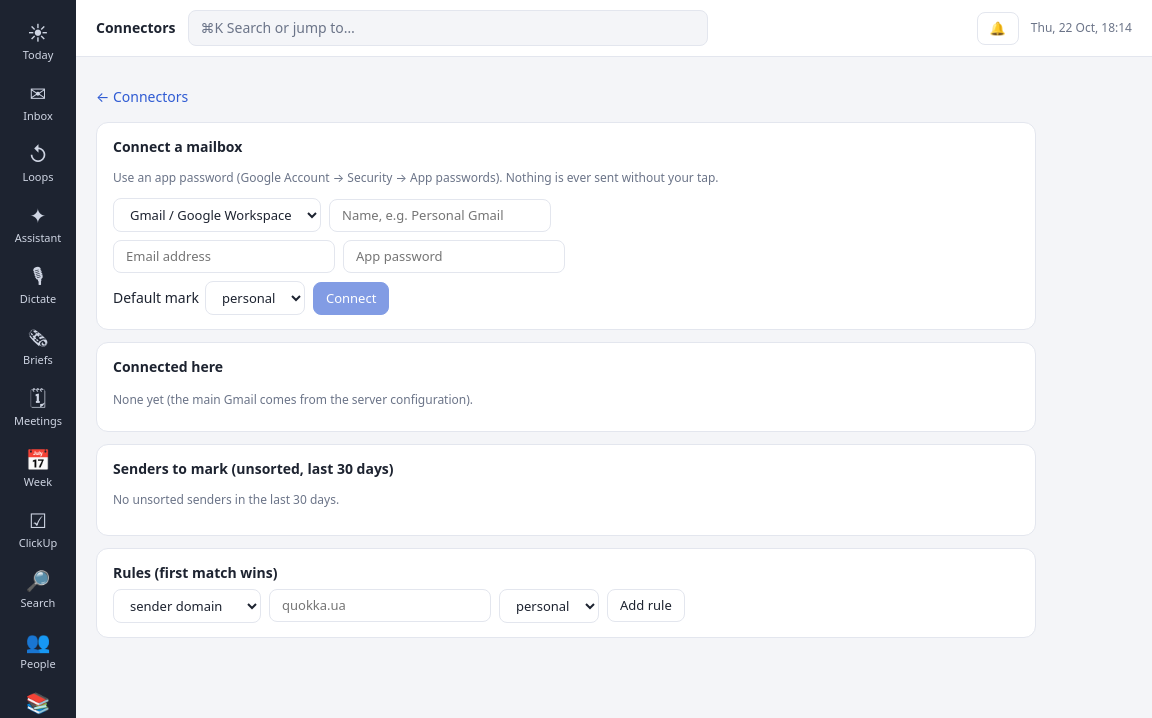
Test: connecting a mailbox shows the server's login error and keeps the form
The width and height of the screenshot is (1152, 718).
Step 1. Type "me@personal.example" into the field labelled "Email address" → (224, 257), box x1=113 y1=240 x2=335 y2=273
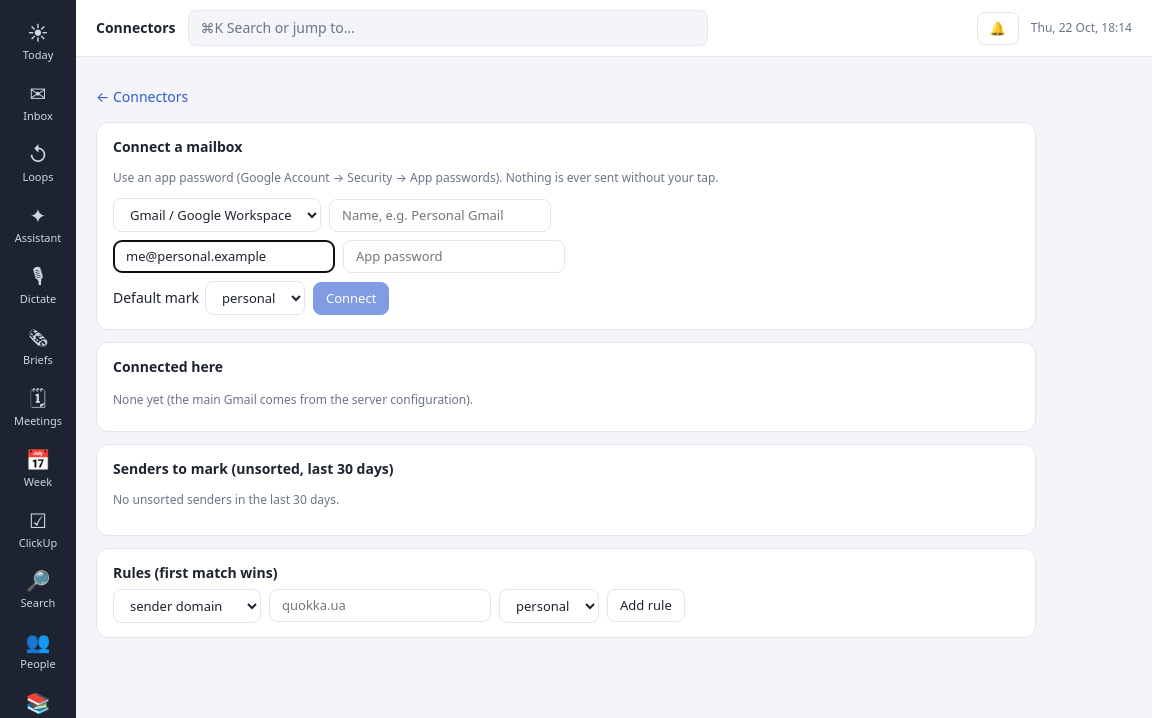
Step 2. Type "abcd efgh" into the password field labelled "App password" → (454, 257), box x1=343 y1=240 x2=565 y2=273
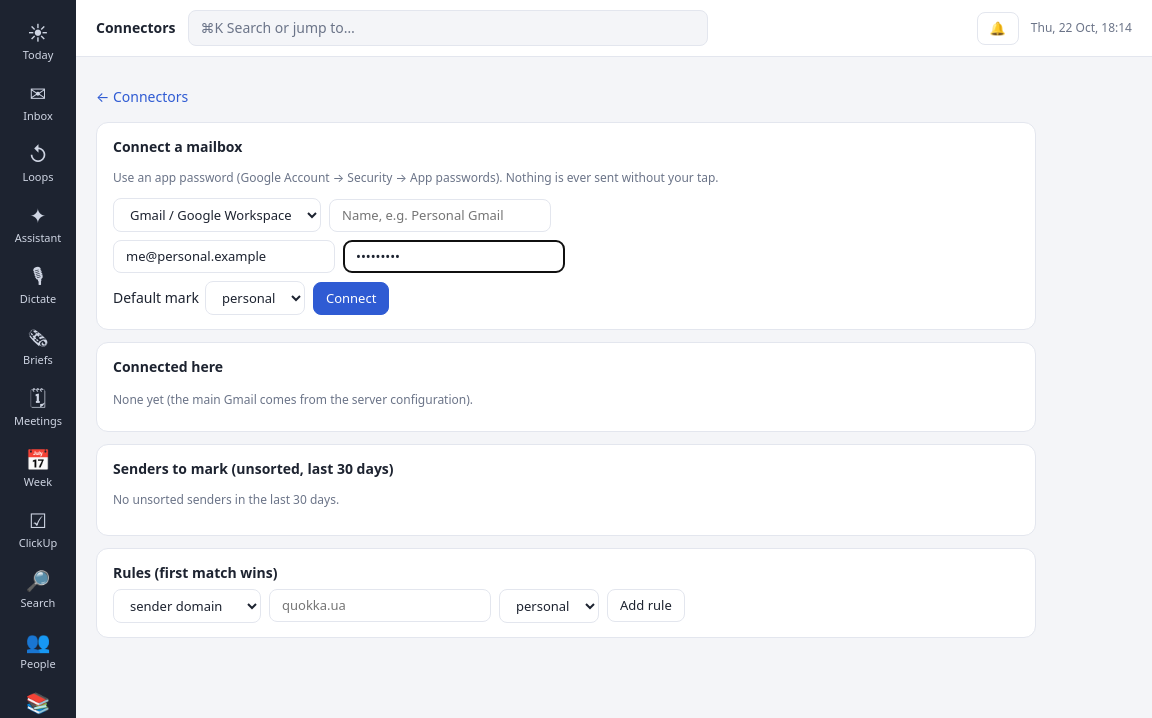
Step 3. Select "personal" in the dropdown labelled "Default mark" → (255, 298), box x1=205 y1=281 x2=305 y2=315
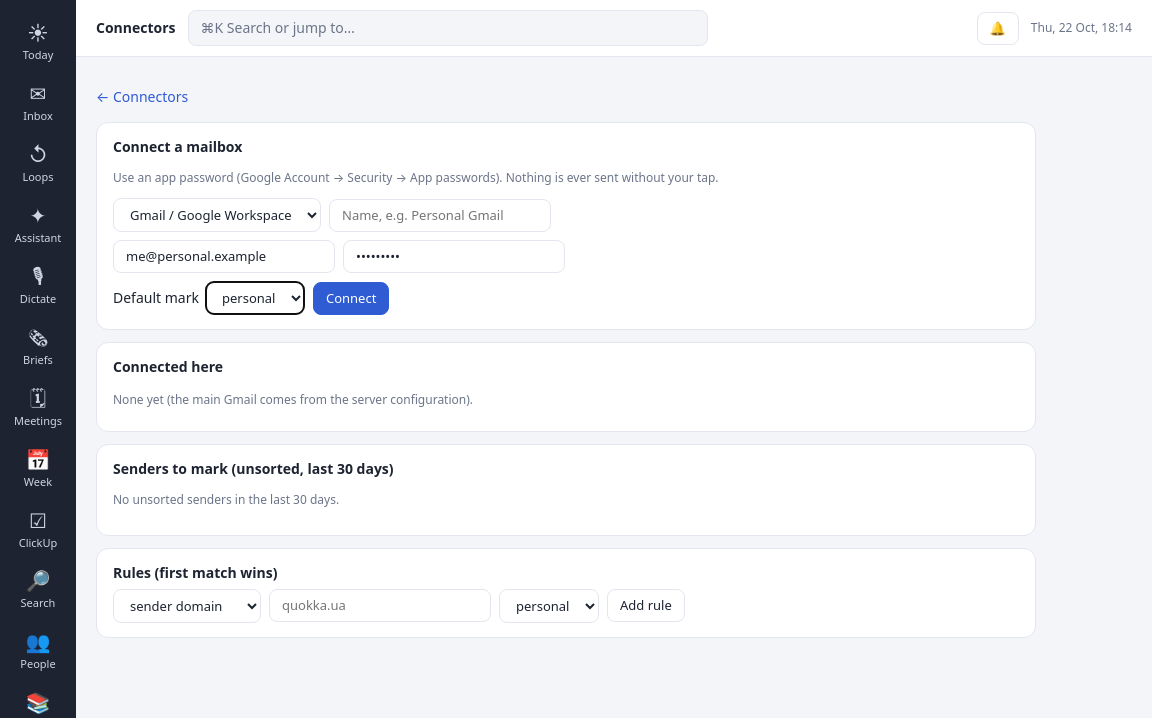
Step 4. Click the button "Connect" → (351, 298), box x1=313 y1=282 x2=389 y2=314
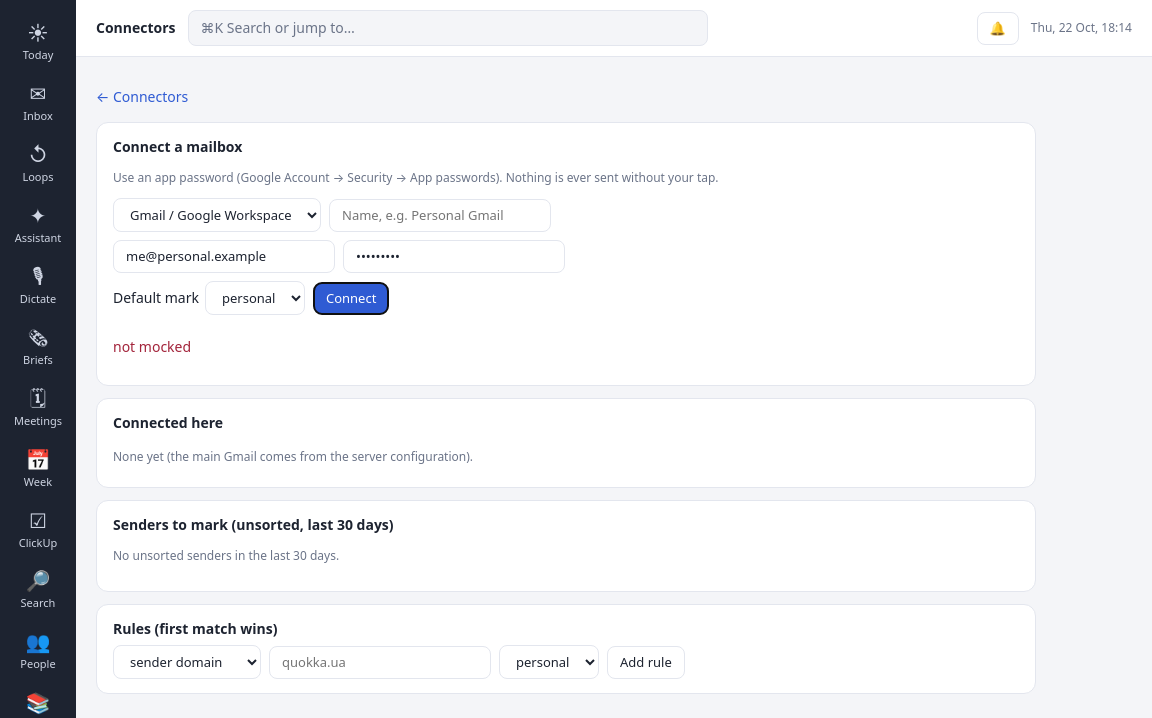
Expected: the message reads "not mocked", x1=113 y1=337 x2=191 y2=356
